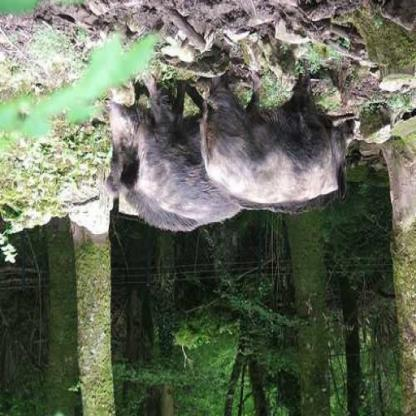boar: (155, 47, 415, 263), (98, 62, 264, 237)
